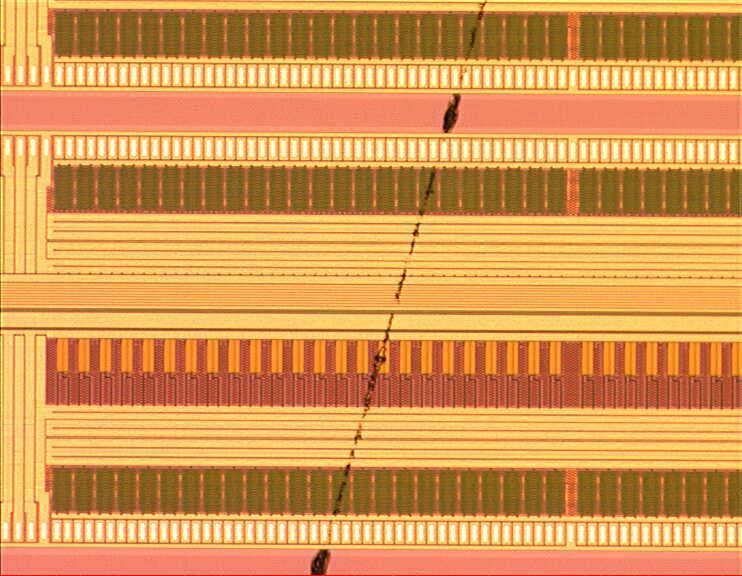SCRATCH: (307, 1, 497, 576)
